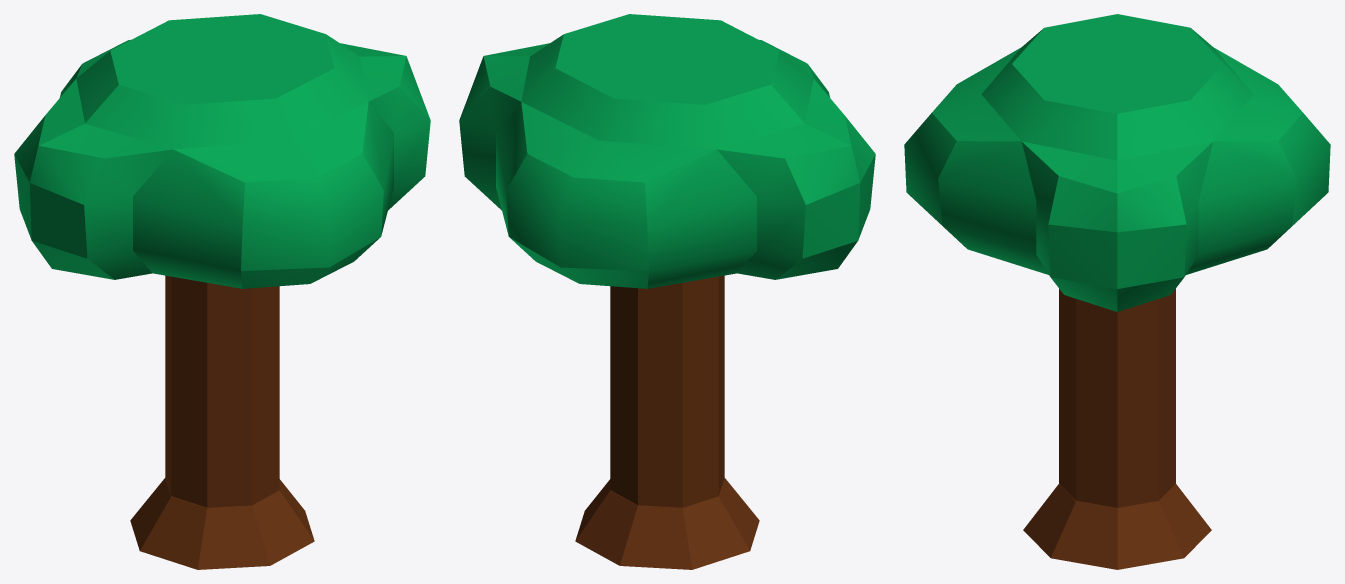
Rendered from OakTreePrefab.fbx.
The picture shows the model from 3 angles, left to right: view 1: azimuth 30°, elevation 25°; view 2: azimuth 150°, elevation 25°; view 3: azimuth 270°, elevation 25°; orthographic projection.
Parts seen in each view (by area): view 1: Trunk, Stump; view 2: Trunk, Stump; view 3: Trunk, Stump.
Boxes of the visible parts, x1,y1,x2,y2 form: Trunk: (14, 14, 430, 507); Stump: (130, 477, 314, 569); Trunk: (459, 14, 875, 507); Stump: (575, 477, 759, 569); Trunk: (904, 14, 1330, 507); Stump: (1023, 483, 1211, 569).
Bounding box in the file's own units: 3.81 × 4.45 × 3.69.
1 material, 1 textured.
